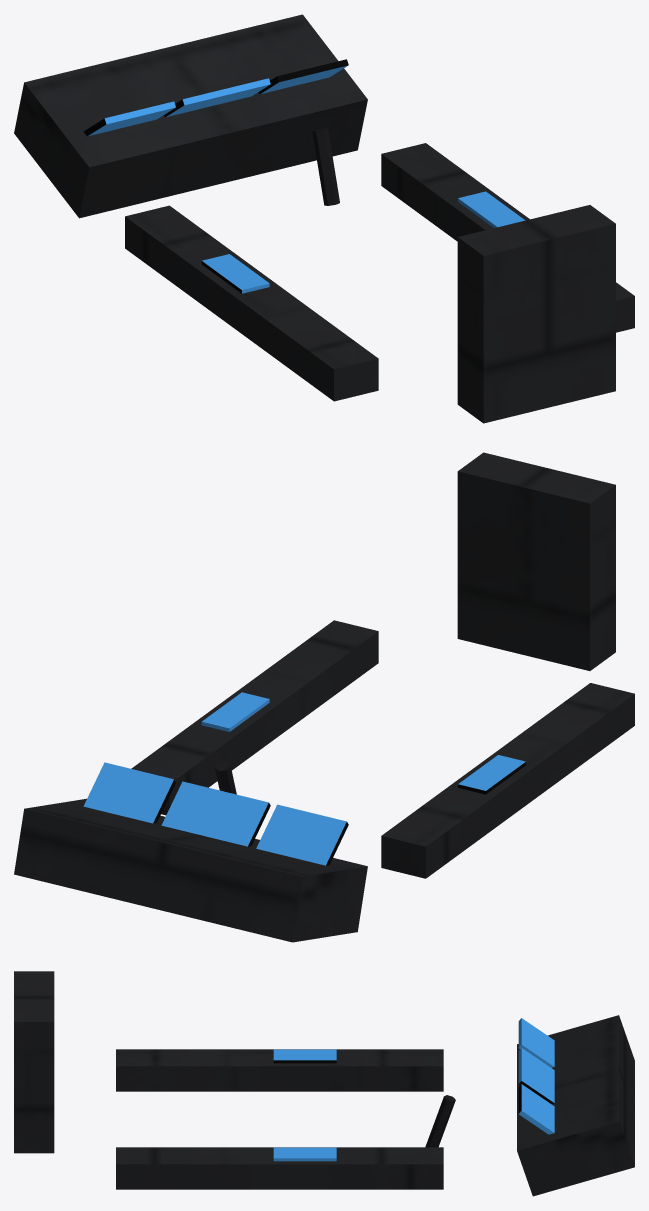
File: CabinaFrente2.fbx
3 renders of one model, top to bottom at view 1: azimuth 30°, elevation 25°; view 2: azimuth 150°, elevation 25°; view 3: azimuth 270°, elevation 25°, orthographic. The views are drawn at different scales.
Visible parts, largest first — view 1: CabinaFrente2; view 2: CabinaFrente2; view 3: CabinaFrente2.
Boxes of the visible parts, <box> form: CabinaFrente2: <box>14,14,634,423</box>; CabinaFrente2: <box>14,452,634,942</box>; CabinaFrente2: <box>14,971,634,1196</box>.
Bounding box in the file's own units: 216 × 128 × 493.
